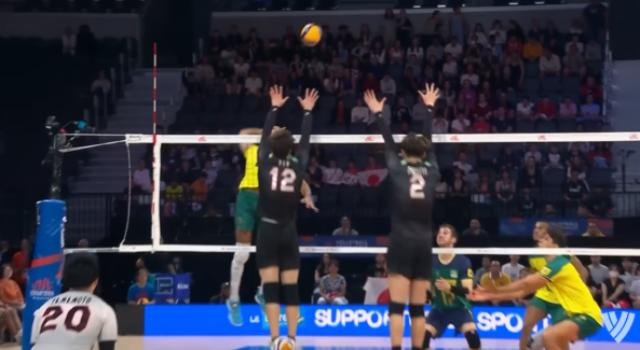Libero: (28, 241, 129, 350), (413, 213, 489, 350)
bola: (291, 12, 331, 60)
